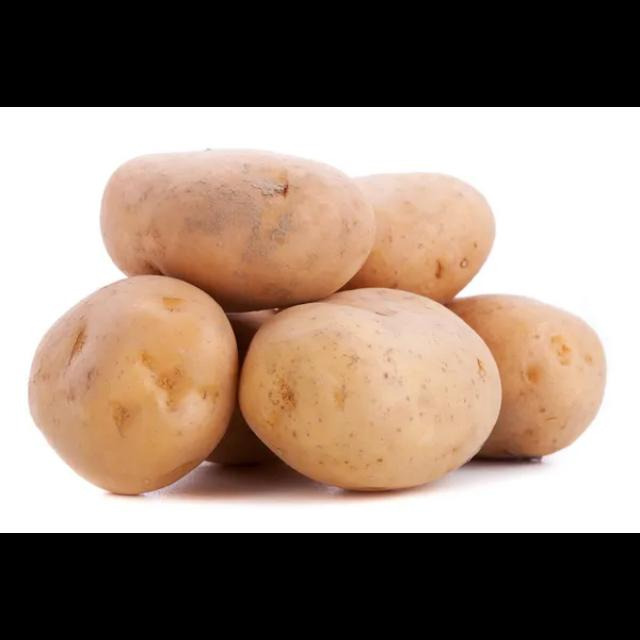Potato: (234, 284, 506, 496), (23, 272, 240, 504), (98, 146, 380, 312), (283, 168, 501, 318)
